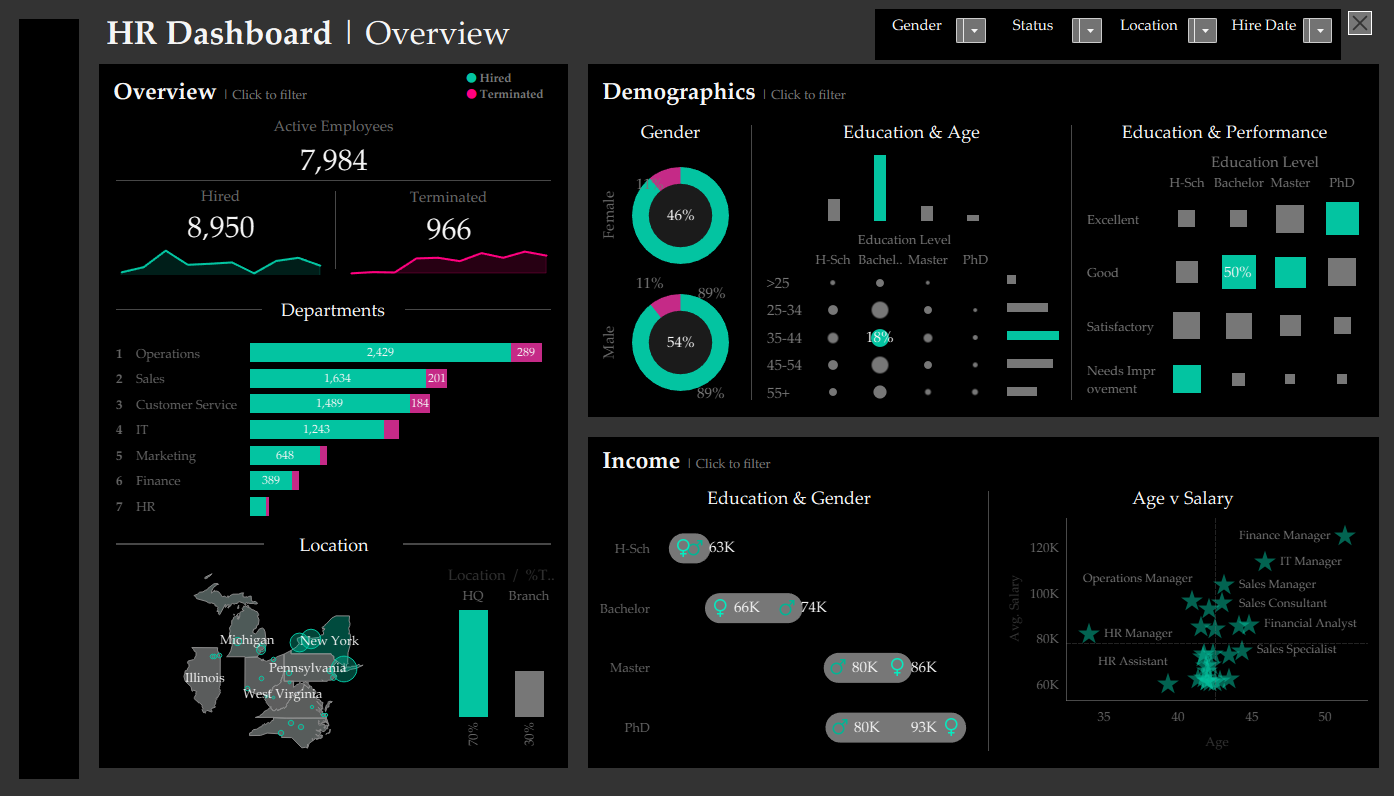

The dashboard page shown, as its layout file describes it:
{"tool":"tableau","page":{"name":"HR Summary","canvas":[1400,800],"ordinal":0},"visuals":[{"type":"text","box":[100,0,1280,65]},{"type":"filter","title":"Gender v Education Level","param":"[federated.0acvva506dftem1855tus1pzju8x].[none:Gender:nk]","box":[878,12,116,47]},{"type":"filter","title":"Gender v Education Level","param":"[federated.0acvva506dftem1855tus1pzju8x].[none:Calculation_27866081373822986:nk]","box":[994,12,116,47]},{"type":"filter","title":"Gender v Education Level","param":"[federated.0acvva506dftem1855tus1pzju8x].[none:Calculation_27866081347588101:nk]","box":[1110,12,115,47]},{"type":"filter","title":"Gender v Education Level","param":"[federated.0acvva506dftem1855tus1pzju8x].[yr:Hiredate:ok]","box":[1225,12,115,47]},{"type":"dashboard-object","box":[1349,12,24,24]},{"type":"blank","box":[20,20,60,380]},{"type":"text","box":[464,70,100,34]},{"type":"text","box":[107,72,455,40]},{"type":"text","box":[596,72,777,39]},{"type":"text","box":[107,112,455,29]},{"type":"text","box":[596,116,151,33]},{"type":"blank","box":[752,116,1,295]},{"type":"text","box":[758,116,309,33]},{"type":"blank","box":[1072,116,1,295]},{"type":"text","box":[1078,116,295,33]},{"type":"worksheet","title":"Active","mark":"Text","box":[107,141,455,40]},{"type":"worksheet","title":"Gender","mark":"Pie","rows":["Gender"],"cols":["Calculation_27866081350332423","Calculation_27866081350332423"],"box":[596,149,151,262]},{"type":"worksheet","title":"Education Levels","mark":"Bar","rows":["Calculation_27866081340735488"],"cols":["Education Level"],"box":[758,149,309,77]},{"type":"worksheet","title":"Education v Performance","mark":"Square","rows":["Performance Rating"],"cols":["Education Level"],"box":[1078,149,295,262]},{"type":"blank","box":[107,181,455,1]},{"type":"text","box":[107,182,229,29]},{"type":"blank","box":[336,182,1,98]},{"type":"text","box":[337,182,225,32]},{"type":"worksheet","title":"Hired","mark":"Text","box":[107,211,229,34]},{"type":"worksheet","title":"Terminated","mark":"Text","box":[337,214,225,32]},{"type":"worksheet","title":"Age v Education","mark":"Circle","rows":["Calculation_27866081352286217"],"cols":["Education Level"],"box":[758,226,246,185]},{"type":"worksheet","title":"AgeGroups","mark":"Bar","rows":["Calculation_27866081352286217"],"cols":["Calculation_27866081340735488"],"box":[1004,226,63,185]},{"type":"worksheet","title":"Hired By Year","mark":"Line","rows":["Calculation_27866081340735488","Calculation_27866081340735488"],"cols":["Hiredate"],"box":[107,245,229,35]},{"type":"worksheet","title":"Terminated by Year","mark":"Line","rows":["Calculation_27866081340919809","Calculation_27866081340919809"],"cols":["Termdate"],"box":[337,246,225,34]},{"type":"blank","box":[117,285,146.3,52]},{"type":"text","box":[263.3,285,142.3,52]},{"type":"blank","box":[405.7,285,146.3,52]},{"type":"worksheet","title":"Department","mark":"Bar","rows":["Calculation_27866081347080196","Department"],"cols":["Calculation_27866081340735488"],"box":[107,337,455,187]},{"type":"blank","box":[20,400,60,380]},{"type":"text","box":[596,445,777,32]},{"type":"text","box":[596,482,388,33]},{"type":"blank","box":[989,482,1,280]},{"type":"text","box":[995,482,378,33]},{"type":"worksheet","title":"Gender v Education Level","mark":"Square","rows":["Education Level"],"cols":["Salary","Salary"],"box":[596,515,388,247]},{"type":"worksheet","title":"Age v Salary","mark":"Shape","rows":["Salary"],"cols":["Calculation_27866081351856136"],"box":[995,515,378,247]},{"type":"blank","box":[117,529,147.7,33]},{"type":"text","box":[264.7,529,139.7,33]},{"type":"blank","box":[404.3,529,147.7,33]},{"type":"worksheet","title":"Map","mark":"Automatic","box":[107,562,335,200]},{"type":"worksheet","title":"Location","mark":"Bar","rows":["Calculation_27866081340735488"],"cols":["Calculation_27866081347588101","Calculation1"],"box":[442,562,120,200]}]}

Visuals, with their boxes in screenshot pixels (x1, y1, x2, y2), scaled from the page's 1400x800 canvas onto the 1394x796 screenshot:
text: 100, 0, 1374, 65
"Gender v Education Level" filter: 874, 12, 990, 59
"Gender v Education Level" filter: 990, 12, 1105, 59
"Gender v Education Level" filter: 1105, 12, 1220, 59
"Gender v Education Level" filter: 1220, 12, 1334, 59
dashboard-object: 1343, 12, 1367, 36
blank: 20, 20, 80, 398
text: 462, 70, 562, 103
text: 107, 72, 560, 111
text: 593, 72, 1367, 110
text: 107, 111, 560, 140
text: 593, 115, 744, 148
blank: 749, 115, 750, 409
text: 755, 115, 1062, 148
blank: 1067, 115, 1068, 409
text: 1073, 115, 1367, 148
"Active" worksheet (Text marks): 107, 140, 560, 180
"Gender" worksheet (Pie marks): 593, 148, 744, 409
"Education Levels" worksheet (Bar marks): 755, 148, 1062, 225
"Education v Performance" worksheet (Square marks): 1073, 148, 1367, 409
blank: 107, 180, 560, 181
text: 107, 181, 335, 210
blank: 335, 181, 336, 279
text: 336, 181, 560, 213
"Hired" worksheet (Text marks): 107, 210, 335, 244
"Terminated" worksheet (Text marks): 336, 213, 560, 245
"Age v Education" worksheet (Circle marks): 755, 225, 1000, 409
"AgeGroups" worksheet (Bar marks): 1000, 225, 1062, 409
"Hired By Year" worksheet (Line marks): 107, 244, 335, 279
"Terminated by Year" worksheet (Line marks): 336, 245, 560, 279
blank: 116, 284, 262, 335
text: 262, 284, 404, 335
blank: 404, 284, 550, 335
"Department" worksheet (Bar marks): 107, 335, 560, 521
blank: 20, 398, 80, 776
text: 593, 443, 1367, 475
text: 593, 480, 980, 512
blank: 985, 480, 986, 758
text: 991, 480, 1367, 512
"Gender v Education Level" worksheet (Square marks): 593, 512, 980, 758
"Age v Salary" worksheet (Shape marks): 991, 512, 1367, 758
blank: 116, 526, 264, 559
text: 264, 526, 403, 559
blank: 403, 526, 550, 559
"Map" worksheet: 107, 559, 440, 758
"Location" worksheet (Bar marks): 440, 559, 560, 758
